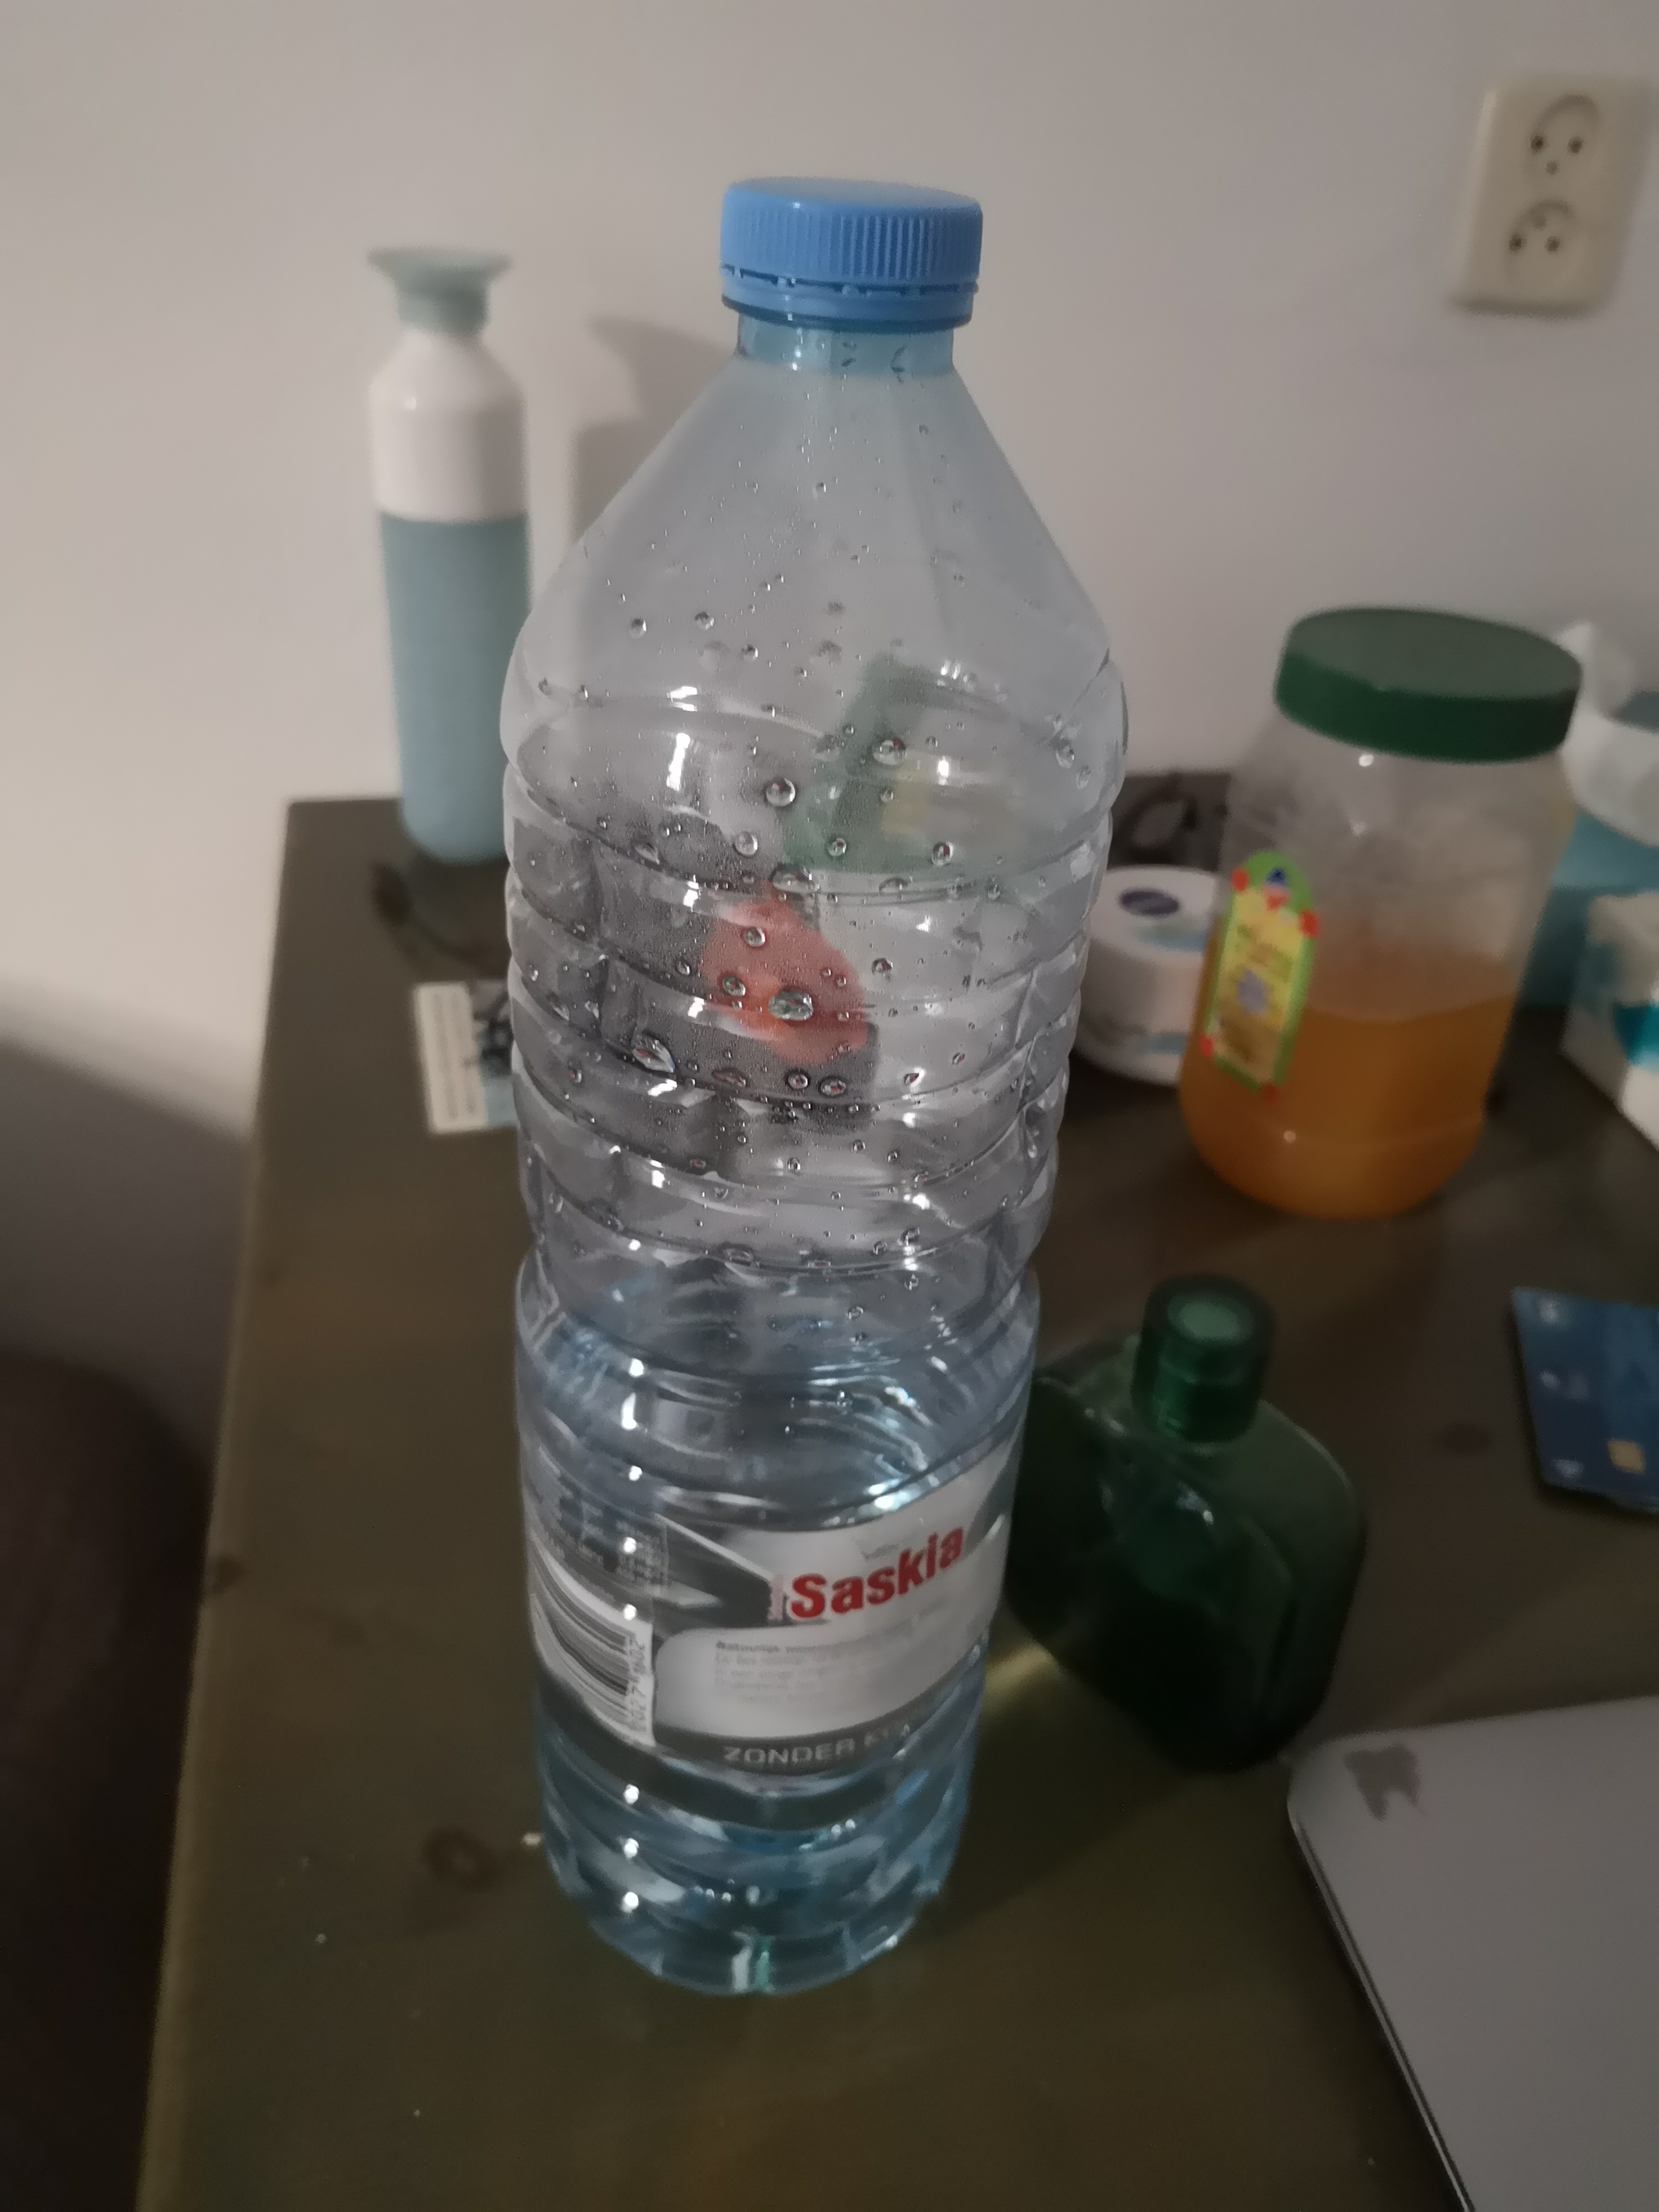plastic_bottle: (471, 134, 1148, 2026), (357, 214, 552, 871)
